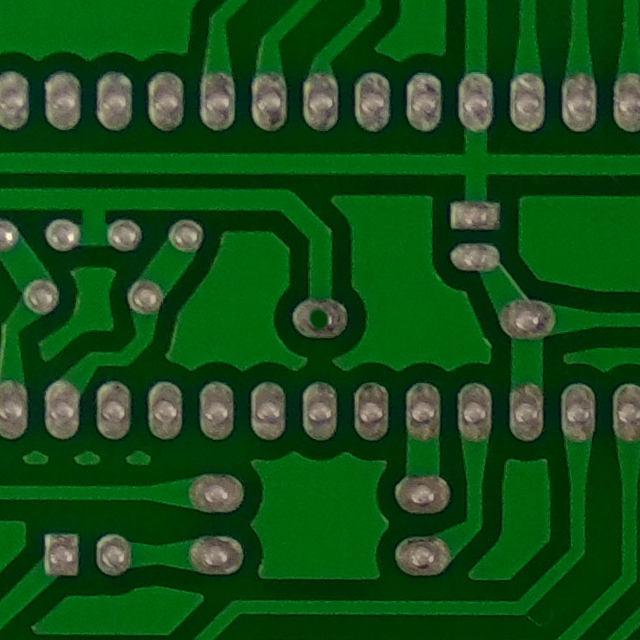missing_hole: (288, 292, 352, 348)
